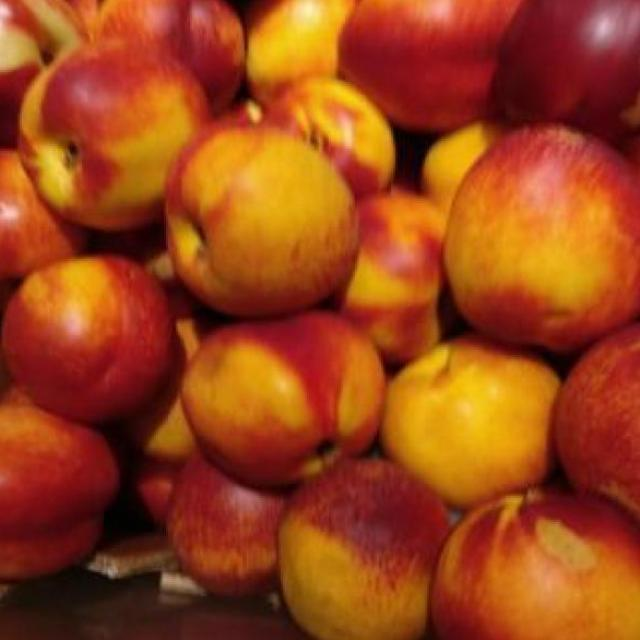Nectarine: (446, 125, 640, 347), (180, 316, 387, 493), (168, 127, 361, 316), (20, 45, 210, 232), (277, 458, 450, 640), (386, 329, 566, 500), (431, 496, 640, 640), (3, 257, 172, 422), (334, 0, 528, 130), (0, 402, 120, 580), (491, 0, 640, 122), (0, 149, 92, 311)
